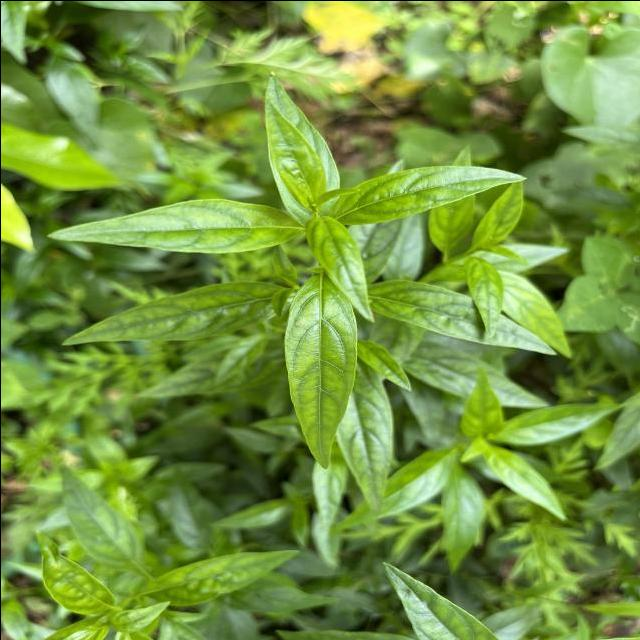Andrographis paniculata: (59, 278, 284, 348), (362, 276, 558, 354), (282, 270, 358, 470), (42, 196, 304, 254), (329, 162, 526, 225), (263, 68, 339, 217), (137, 546, 300, 613), (334, 356, 396, 518), (56, 461, 144, 575), (488, 402, 624, 444), (461, 255, 504, 337)
